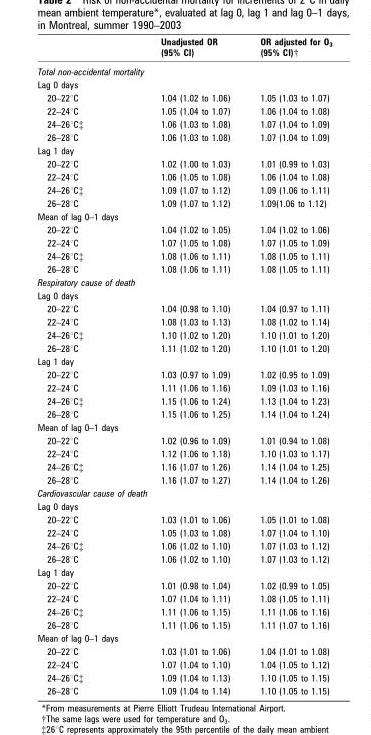table: (36, 36, 331, 696)
table column: (36, 36, 153, 696), (153, 36, 244, 696), (244, 36, 331, 696)
table column header: (36, 36, 331, 62)
table projected row header: (36, 62, 331, 78), (36, 288, 331, 301), (36, 499, 331, 512), (36, 78, 331, 90), (36, 144, 331, 156), (36, 210, 331, 222), (36, 276, 331, 288), (36, 355, 331, 367), (36, 421, 331, 433), (36, 487, 331, 499), (36, 566, 331, 578), (36, 632, 331, 644)
table row: (36, 36, 331, 62), (36, 62, 331, 78), (36, 90, 331, 104), (36, 130, 331, 144), (36, 156, 331, 170), (36, 196, 331, 210), (36, 222, 331, 236), (36, 262, 331, 276), (36, 301, 331, 315), (36, 341, 331, 355), (36, 367, 331, 381), (36, 407, 331, 421), (36, 433, 331, 447), (36, 473, 331, 487), (36, 512, 331, 526), (36, 552, 331, 566), (36, 578, 331, 592), (36, 618, 331, 632), (36, 644, 331, 658), (36, 104, 331, 117), (36, 117, 331, 130), (36, 170, 331, 183), (36, 183, 331, 196), (36, 236, 331, 249), (36, 249, 331, 262), (36, 288, 331, 301), (36, 315, 331, 328), (36, 328, 331, 341), (36, 381, 331, 394), (36, 394, 331, 407), (36, 447, 331, 460), (36, 460, 331, 473), (36, 499, 331, 512), (36, 526, 331, 539), (36, 539, 331, 552), (36, 592, 331, 605), (36, 605, 331, 618), (36, 658, 331, 671), (36, 671, 331, 684), (36, 78, 331, 90), (36, 144, 331, 156), (36, 210, 331, 222), (36, 276, 331, 288), (36, 355, 331, 367), (36, 421, 331, 433), (36, 487, 331, 499), (36, 566, 331, 578), (36, 632, 331, 644), (36, 684, 331, 696)
